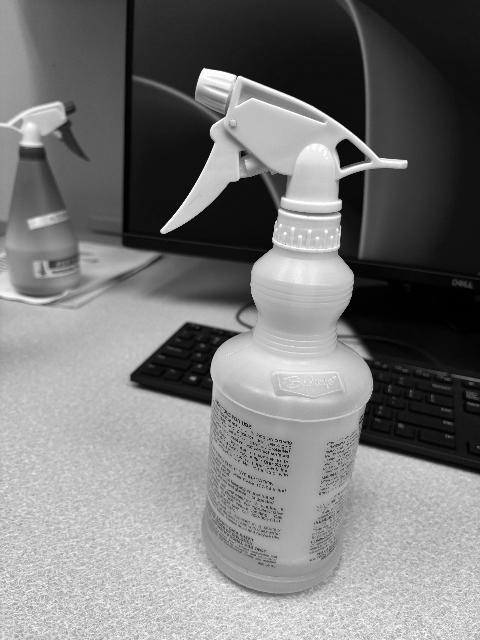StarSpray: (166, 70, 407, 599)
